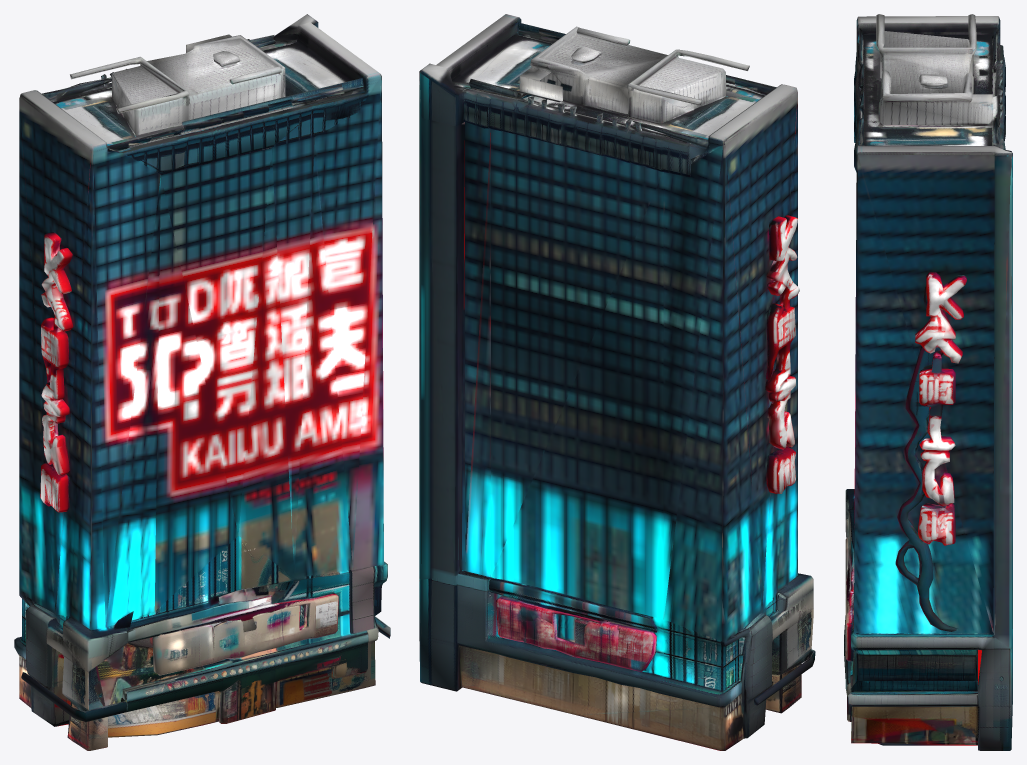
Rendered from shopping_2.glb.
The picture shows the model from 3 angles, left to right: view 1: azimuth 30°, elevation 25°; view 2: azimuth 150°, elevation 25°; view 3: azimuth 270°, elevation 25°; orthographic projection. The views are drawn at different scales.
Size of the model in its own units: 1.03 by 1.91 by 0.4736.
1 material, 1 textured.
